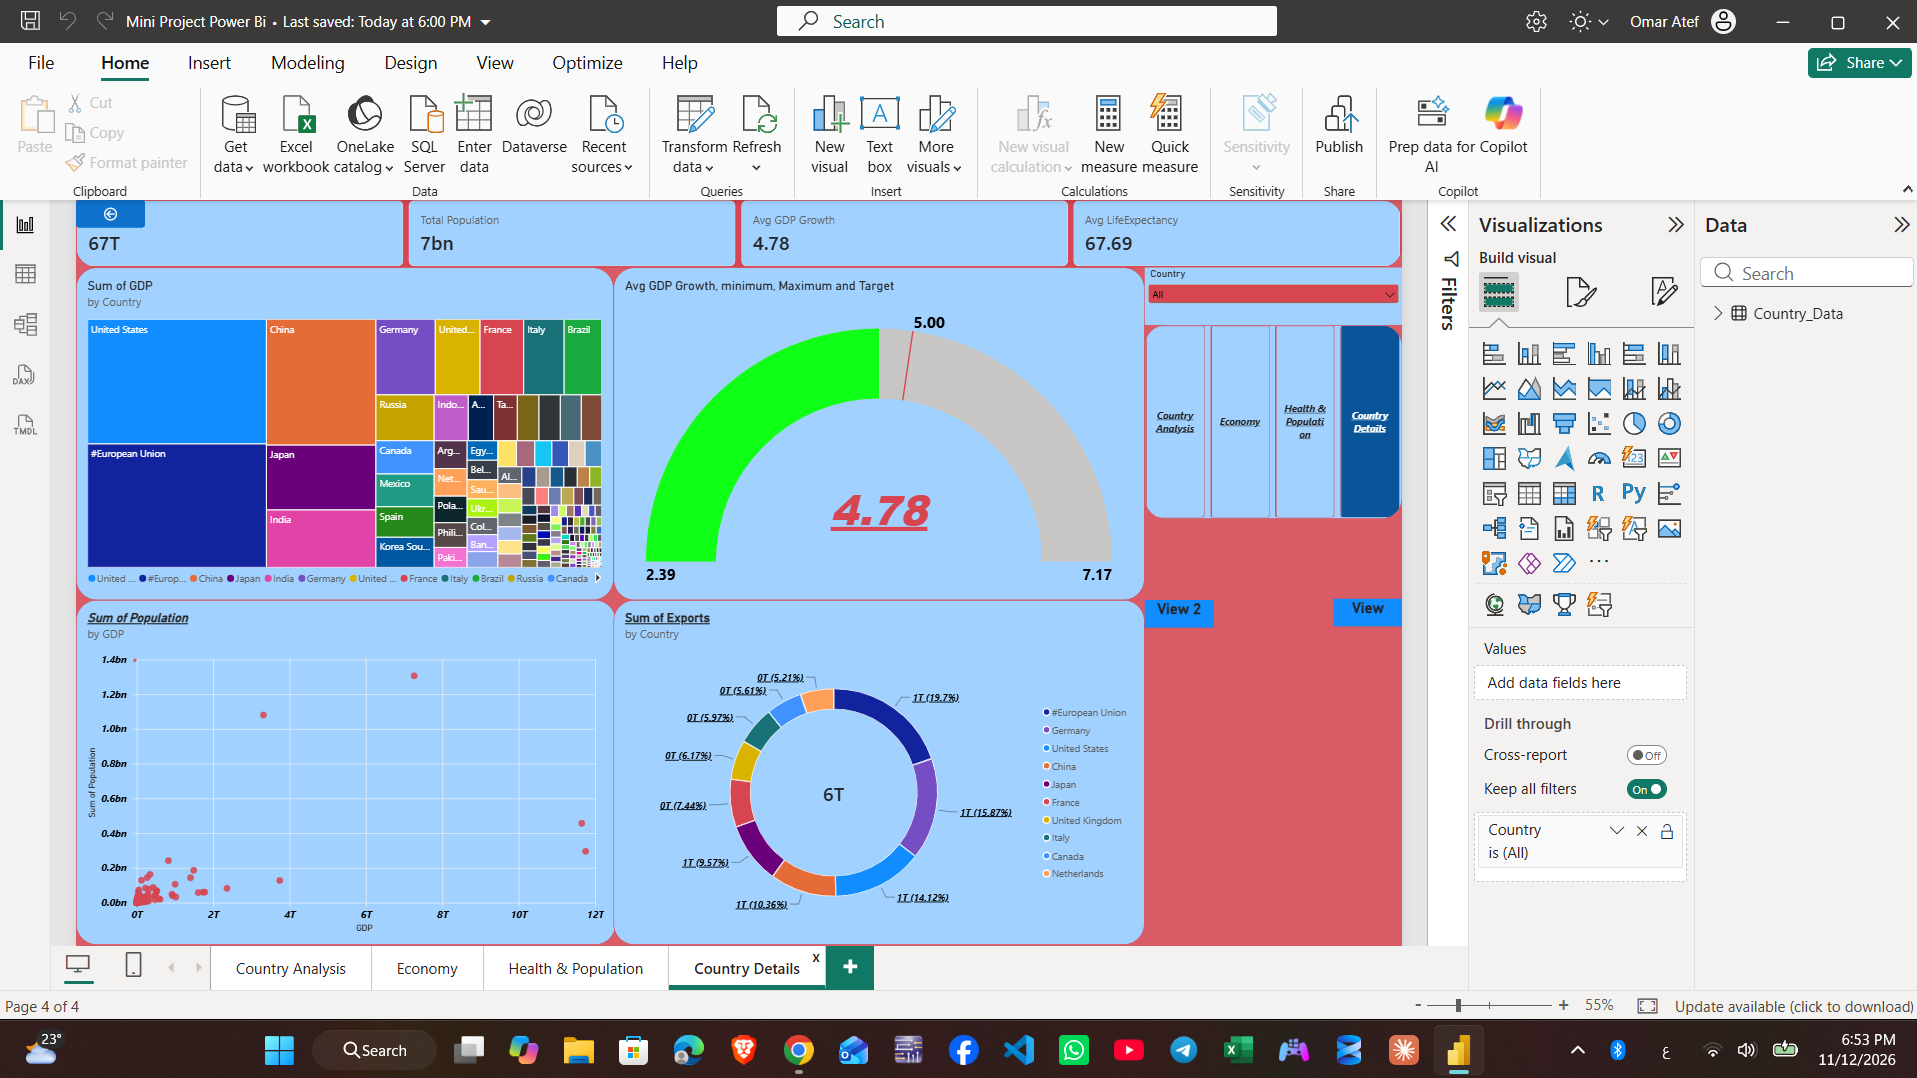

What the dashboard file says about the page in this screenshot:
{"tool":"powerbi","page":{"name":"Country Details","canvas":[1920,1080],"ordinal":3},"visuals":[{"type":"cardVisual","fields":{"Data":["Country_Data.Total GDP","Country_Data.Total Population","Country_Data.Avg GDP Growth","Country_Data.Avg LifeExpectancy"]},"box":[0,0,1920.1,97.7],"z":0},{"type":"treemap","fields":{"Group":["Country_Data.Country"],"Values":["Sum(Country_Data.GDP)"]},"box":[0,97.7,778.2,481.4],"z":1000},{"type":"scatterChart","fields":{"X":["Country_Data.GDP"],"Y":["Sum(Country_Data.Population)"]},"box":[0,579.1,781.8,499.5],"z":2000},{"type":"donutChart","fields":{"Category":["Country_Data.Country"],"Y":["Sum(Country_Data.Exports)"]},"box":[778.2,579.1,769.1,499.5],"z":3000},{"type":"gauge","fields":{"MaxValue":["Country_Data.Maximum"],"MinValue":["Country_Data.minimum"],"TargetValue":["Country_Data.Target"],"Y":["Country_Data.Avg GDP Growth"]},"box":[778.2,97.7,769.1,481.4],"z":4000},{"type":"slicer","fields":{"Values":["Country_Data.Country"]},"box":[1547.3,97.7,372.8,83.2],"z":5000},{"type":"actionButton","box":[0,0,100,40],"z":6000},{"type":"actionButton","box":[0,0,100,40],"z":7000},{"type":"pageNavigator","box":[1547.3,181,372.8,280.5],"z":8000},{"type":"actionButton","title":"View","box":[1820.5,577.3,100,40],"z":9000},{"type":"actionButton","title":"View 2","box":[1547.3,579.1,100,40],"z":10000}]}

Visuals, with their boxes on the page's 1920x1080 design canvas (x1, y1, x2, y2). These are canvas units, not pixel positions in the 1917x1078 screenshot, which may show the page scaled, cropped or inside an application window:
cardVisual - Country_Data.Total GDP x Country_Data.Total Population: bbox=[0, 0, 1920, 98]
treemap - Country_Data.Country x Sum(Country_Data.GDP): bbox=[0, 98, 778, 579]
scatterChart - Country_Data.GDP x Sum(Country_Data.Population): bbox=[0, 579, 782, 1079]
donutChart - Country_Data.Country x Sum(Country_Data.Exports): bbox=[778, 579, 1547, 1079]
gauge - Country_Data.Maximum x Country_Data.minimum: bbox=[778, 98, 1547, 579]
slicer - Country_Data.Country: bbox=[1547, 98, 1920, 181]
actionButton: bbox=[0, 0, 100, 40]
actionButton: bbox=[0, 0, 100, 40]
pageNavigator: bbox=[1547, 181, 1920, 462]
"View" actionButton: bbox=[1820, 577, 1920, 617]
"View 2" actionButton: bbox=[1547, 579, 1647, 619]
